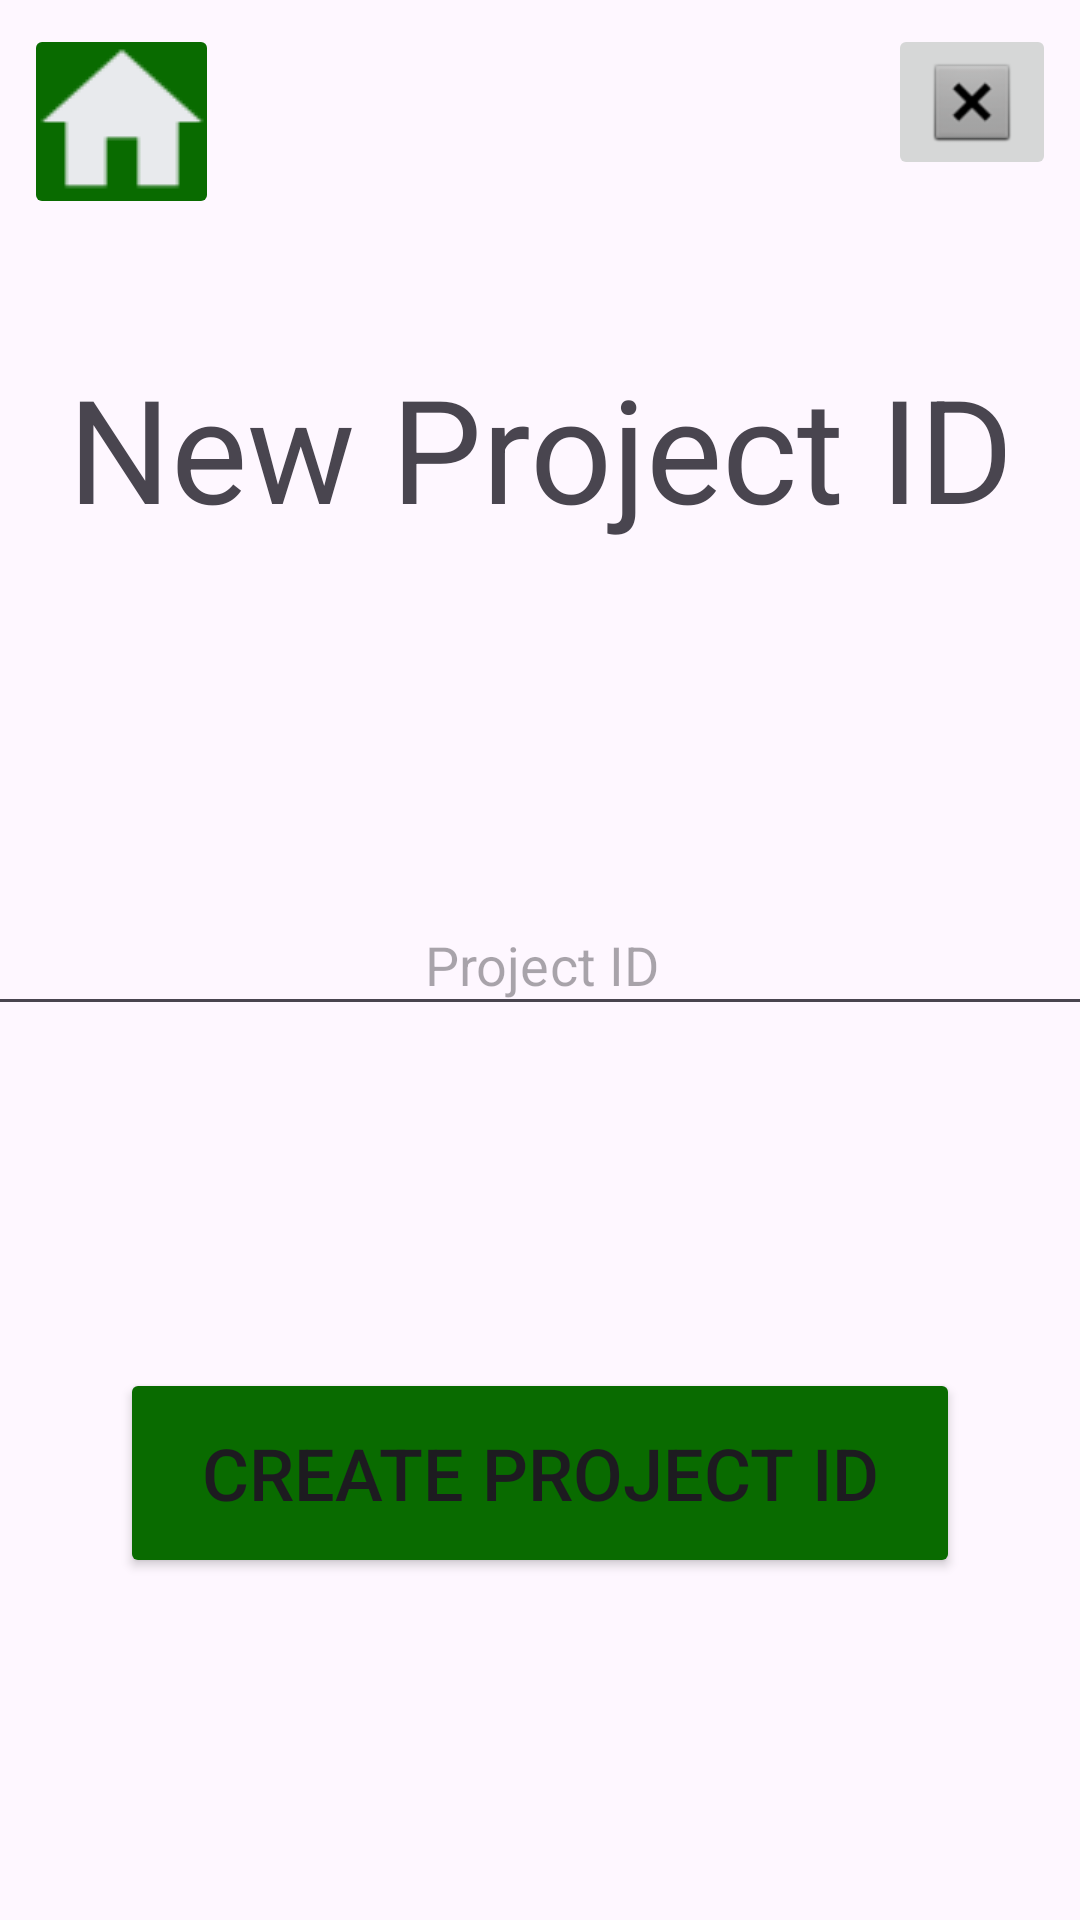

Where to tap for icons on this 1080w x 1920h app screen, as (x=x, y=y):
homebtn: (x=121, y=121)
